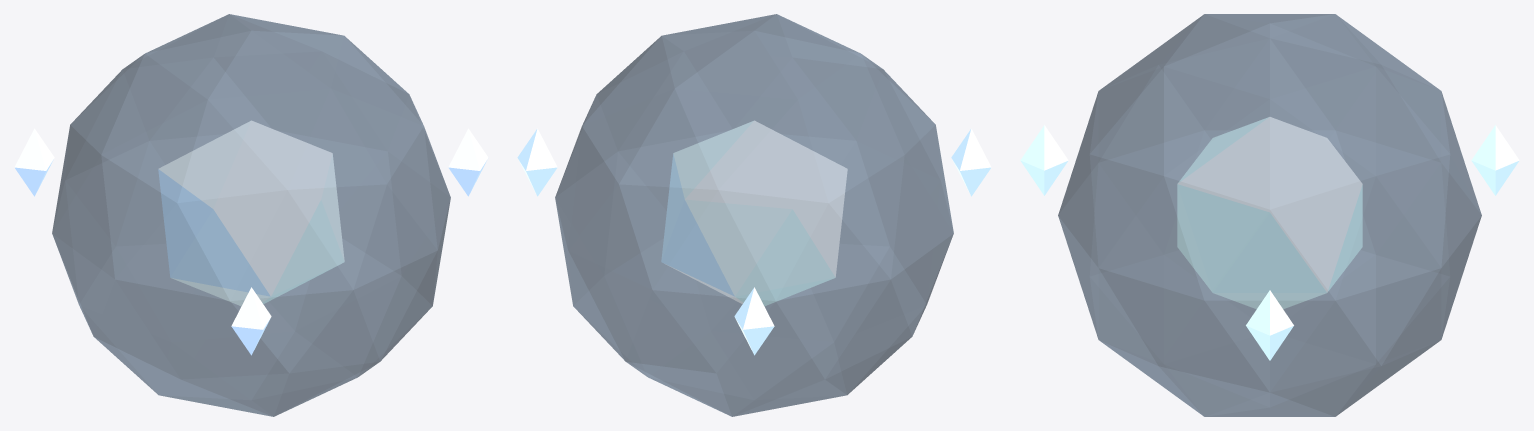
File: Shot_Orb.fbx
The picture shows the model from 3 angles, left to right: view 1: azimuth 30°, elevation 25°; view 2: azimuth 150°, elevation 25°; view 3: azimuth 270°, elevation 25°; orthographic projection. The views are drawn at different scales.
Visible parts, largest first — view 1: Shell, Core, Shards; view 2: Shell, Core, Shards; view 3: Shell, Core, Shards.
Part boxes in pixels (bbox=[...]): Shell: bbox=[52, 14, 450, 416]; Core: bbox=[158, 120, 344, 305]; Shards: bbox=[14, 128, 488, 355]; Shell: bbox=[555, 14, 953, 416]; Core: bbox=[661, 120, 847, 305]; Shards: bbox=[517, 128, 991, 355]; Shell: bbox=[1058, 14, 1481, 416]; Core: bbox=[1177, 117, 1362, 308]; Shards: bbox=[1020, 125, 1519, 360].
Bounding box in the file's own units: 1.61 × 1.4 × 1.65.
